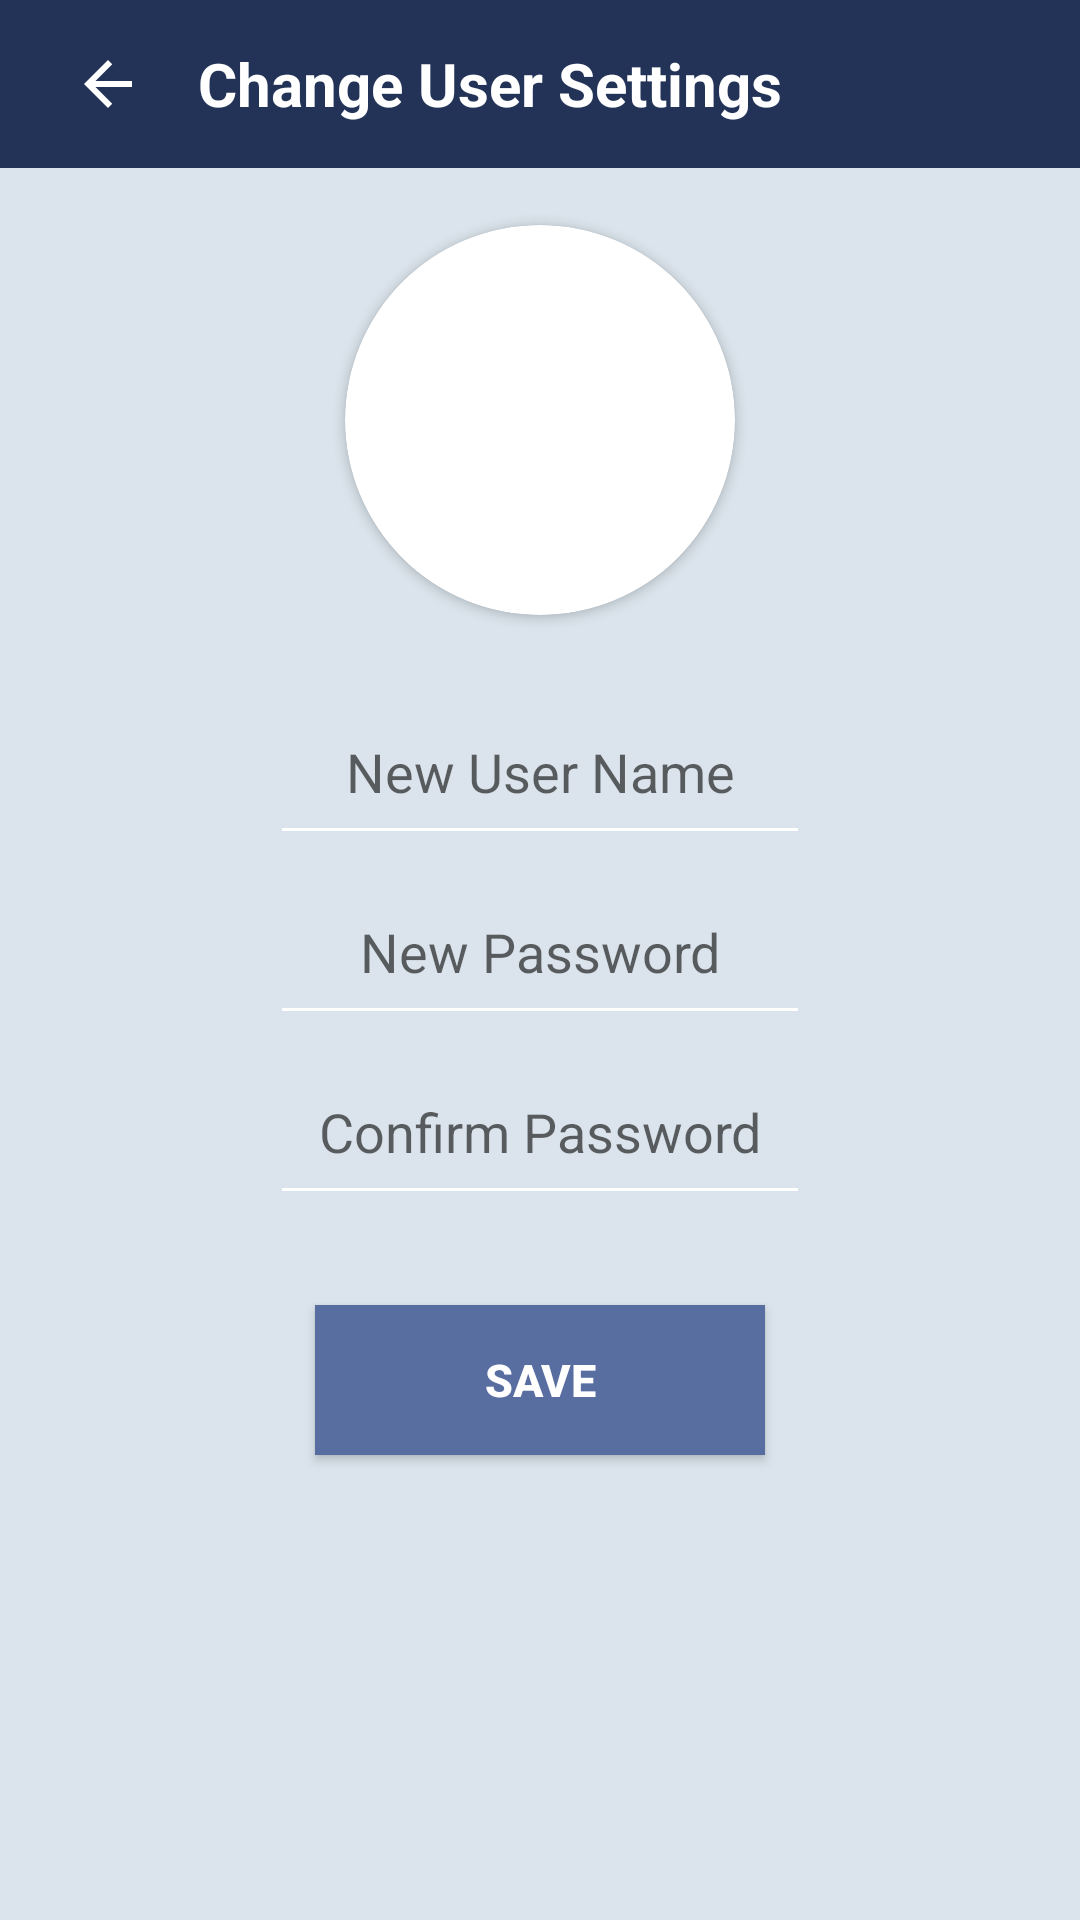

Locate icon controls on the screen. Image size 1080px×1920px, boxes as (x1, y1, x2, y2).
arrow back: (84, 60, 132, 108)
